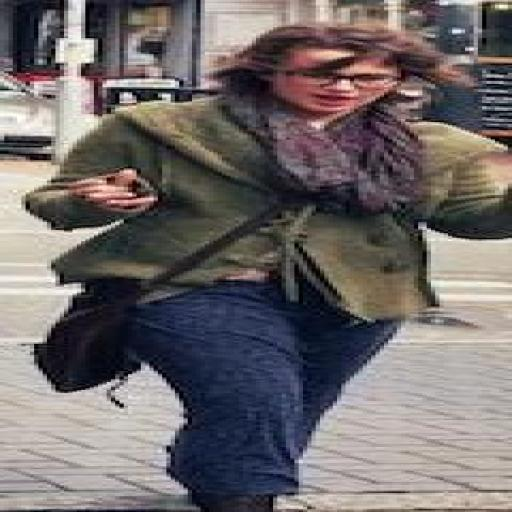person: (26, 24, 511, 511)
